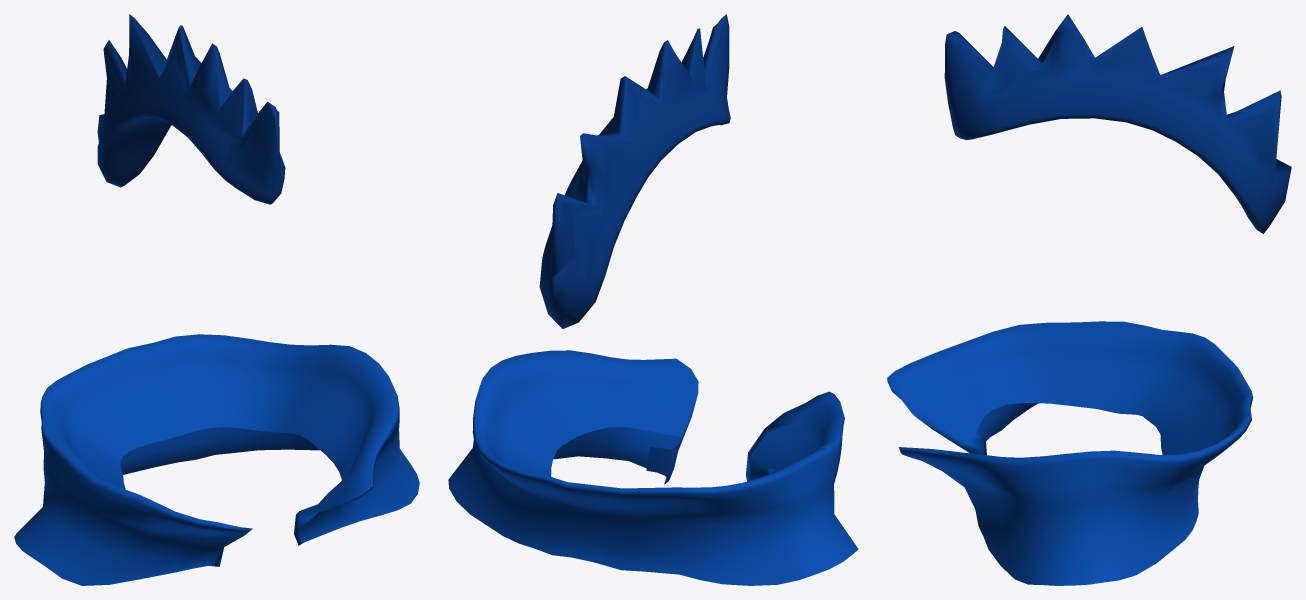
File: ceketli.fbx
The picture shows the model from 3 angles, left to right: view 1: azimuth 30°, elevation 25°; view 2: azimuth 150°, elevation 25°; view 3: azimuth 270°, elevation 25°; orthographic projection.
Parts seen in each view (by area): view 1: yakalik, sac; view 2: yakalik, sac; view 3: yakalik, sac.
Boxes of the visible parts, box(x1,y1,x2,y2) form: yakalik: box(14, 334, 419, 585); sac: box(97, 14, 285, 204); yakalik: box(448, 350, 858, 585); sac: box(539, 14, 730, 328); yakalik: box(887, 321, 1253, 585); sac: box(944, 14, 1291, 233).
Bounding box in the file's own units: 86.39 × 104 × 78.83.
